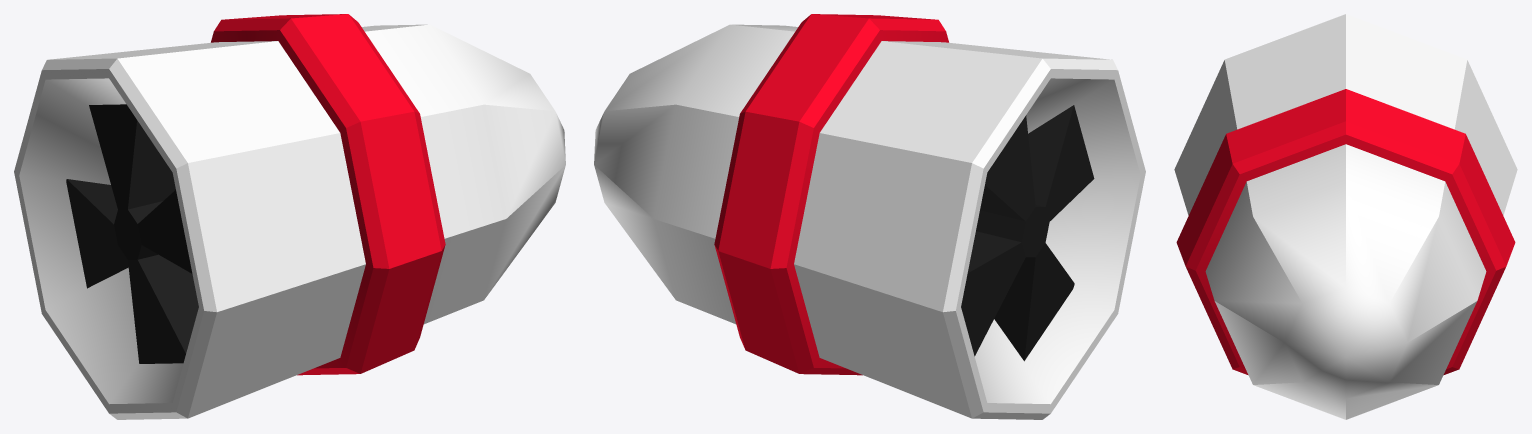
File: Engine_2.fbx
The picture shows the model from 3 angles, left to right: view 1: azimuth 30°, elevation 25°; view 2: azimuth 150°, elevation 25°; view 3: azimuth 270°, elevation 25°; orthographic projection. The views are drawn at different scales.
Parts seen in each view (by area): view 1: Engine_surf; view 2: Engine_surf; view 3: Engine_surf.
Boxes of the visible parts, bbox=[...] form: Engine_surf: bbox=[14, 14, 565, 419]; Engine_surf: bbox=[594, 14, 1145, 419]; Engine_surf: bbox=[1174, 14, 1517, 419].
Size of the model in its own units: 18.9 by 14.33 by 14.33.
